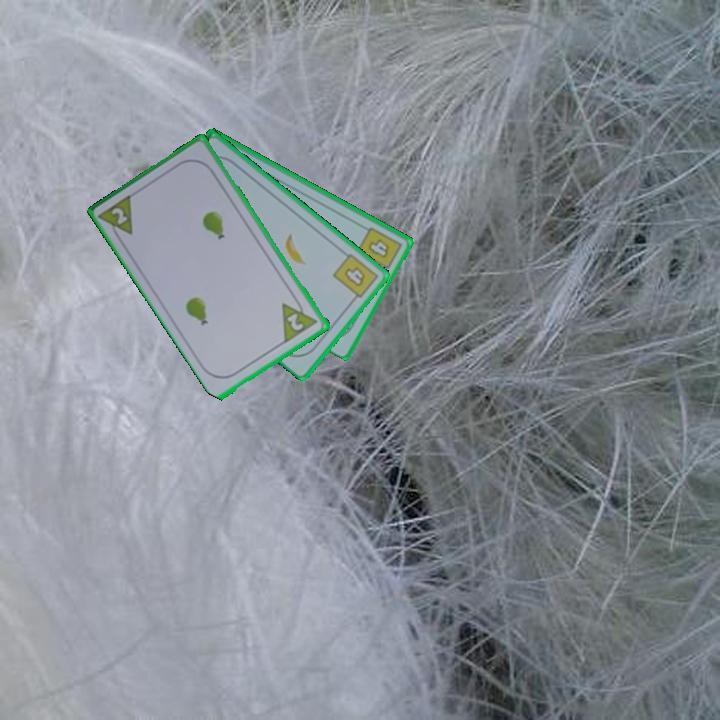2p: (96, 190, 136, 246), (284, 310, 307, 334)
4b: (329, 250, 381, 305), (353, 223, 405, 277)
